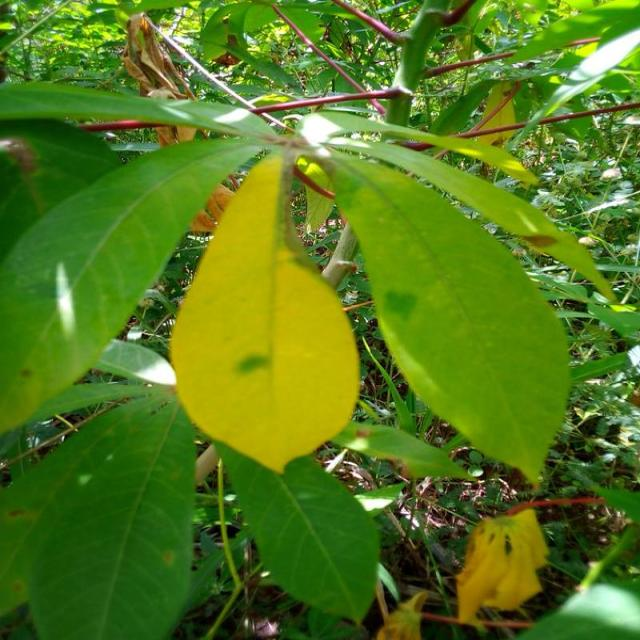cassava leaf: (318, 142, 574, 487), (2, 128, 279, 435), (170, 152, 362, 474), (1, 387, 198, 638), (214, 437, 382, 625)
